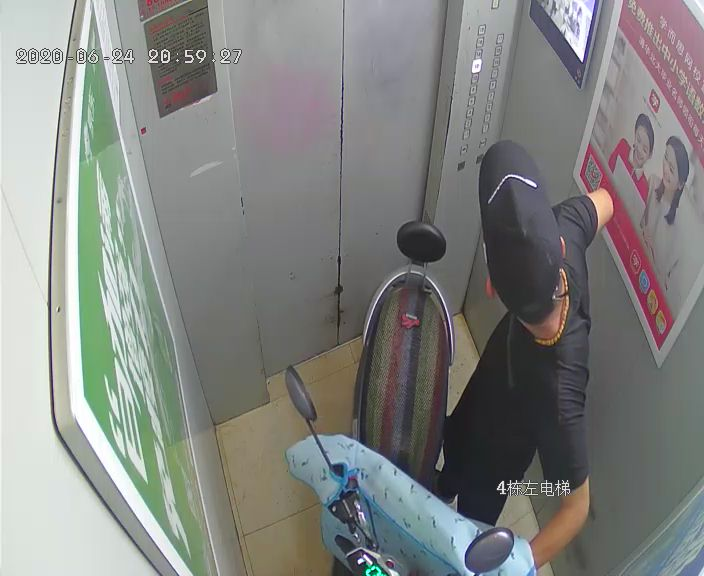Electric-bicycle: (282, 221, 509, 576)
